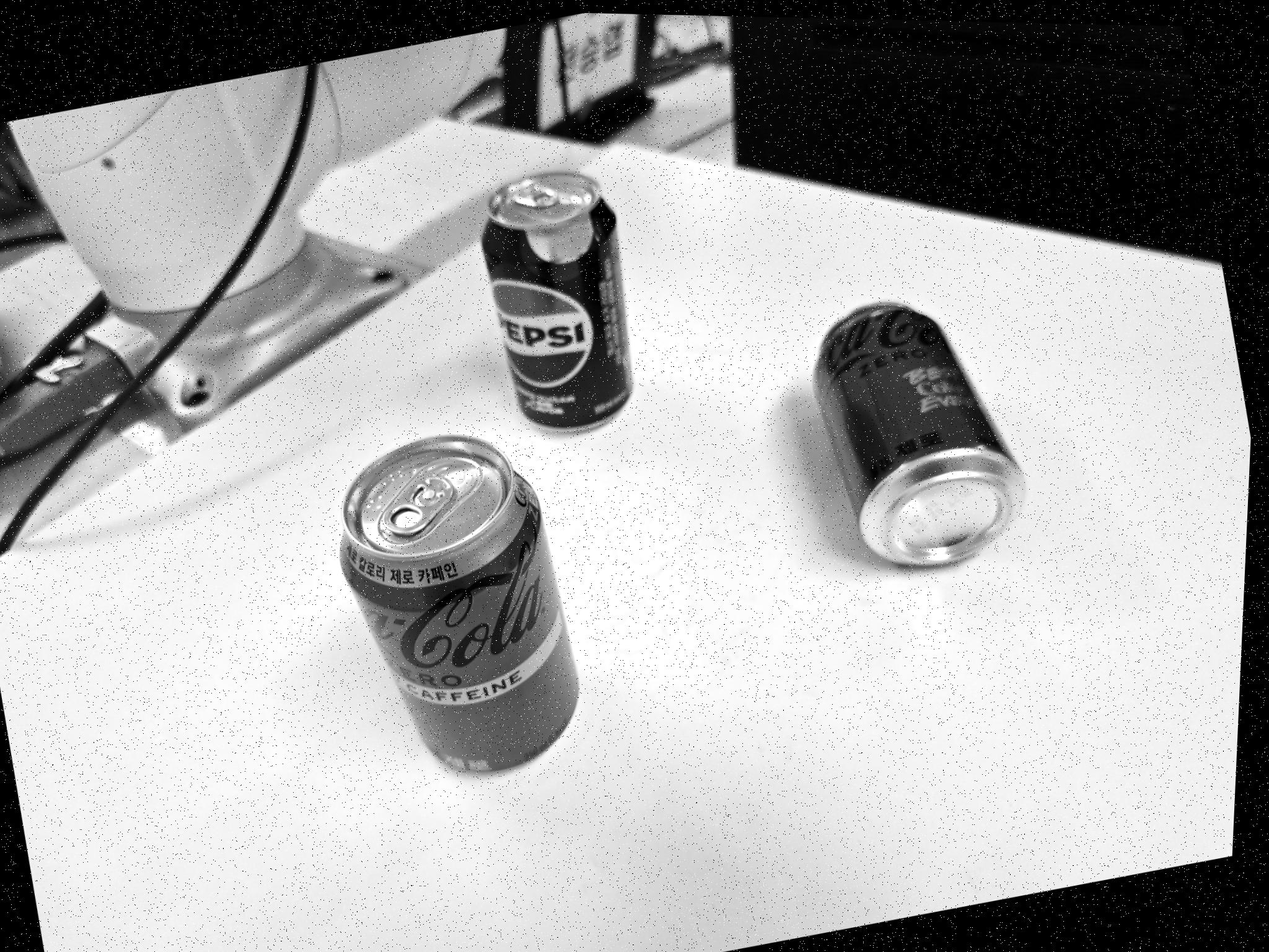can_coke_decaf: (334, 433, 583, 780)
can_coke_zero: (809, 299, 1026, 572)
can_pepsi_zero: (475, 164, 641, 436)
